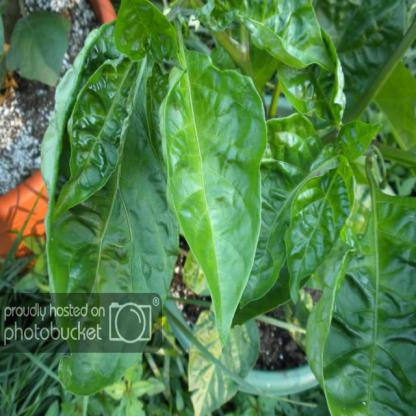Bell_pepper leaf: (155, 42, 269, 348), (57, 55, 140, 224), (283, 167, 349, 306)
